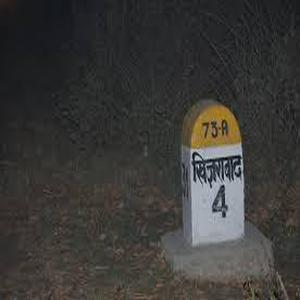kmstone: (178, 96, 248, 247)
